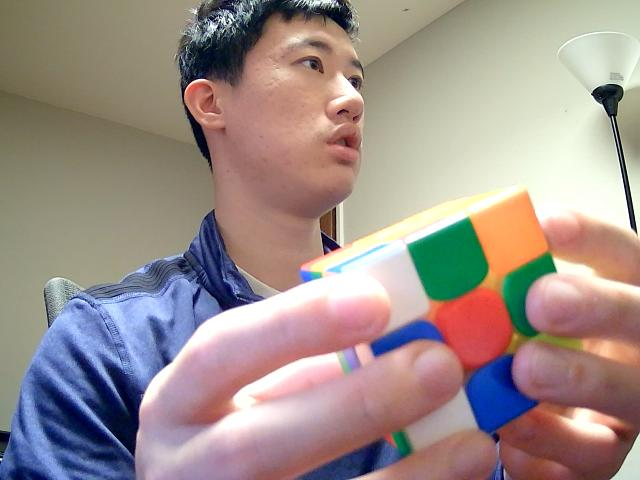Rubiks-Cube: (294, 176, 596, 465)
